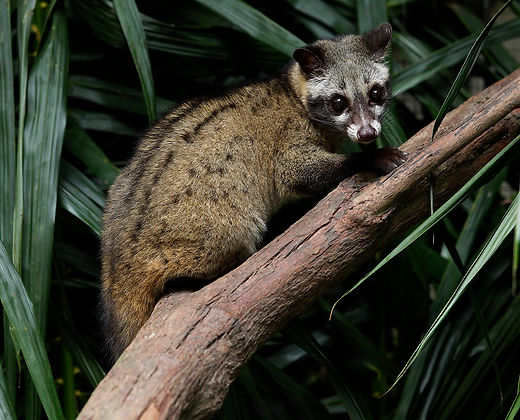Civet: (89, 14, 428, 351)
